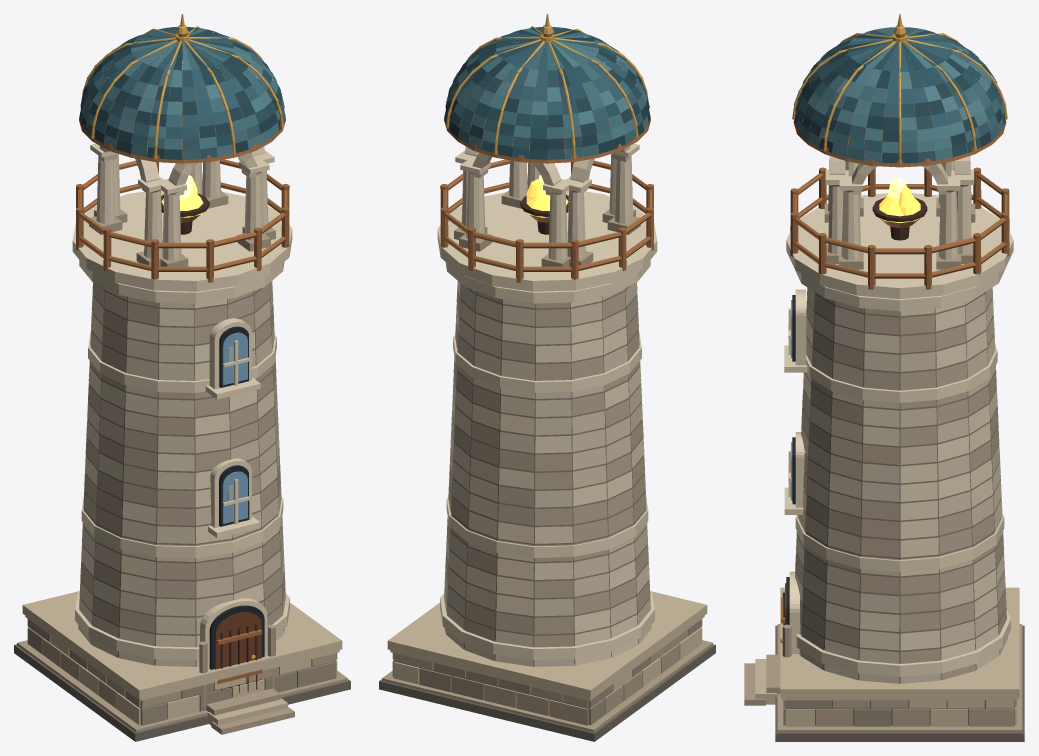
The model's file is watch-nivel-9.glb.
3 renders of one model, left to right at view 1: azimuth 30°, elevation 25°; view 2: azimuth 150°, elevation 25°; view 3: azimuth 270°, elevation 25°, orthographic. The views are drawn at different scales.
Parts seen in each view (by area): view 1: Vigia 09 #e6d7ba, Vigia 09 #d2c4ad, Vigia 09 #b8a993, Vigia 09 #e1d2b8, Vigia 09 #cebea0, Vigia 09 #897e6f, Vigia 09 #b4a38a, Vigia 09 #a76e42, Vigia 09 #3b6472, Vigia 09 #294952, Vigia 09 #54818b, Vigia 09 #46717c (+8 smaller); view 2: Vigia 09 #e6d7ba, Vigia 09 #b8a993, Vigia 09 #e1d2b8, Vigia 09 #d2c4ad, Vigia 09 #cebea0, Vigia 09 #897e6f, Vigia 09 #b4a38a, Vigia 09 #a76e42, Vigia 09 #3b6472, Vigia 09 #46717c, Vigia 09 #305762, Vigia 09 #54818b (+5 smaller); view 3: Vigia 09 #e6d7ba, Vigia 09 #b8a993, Vigia 09 #d2c4ad, Vigia 09 #e1d2b8, Vigia 09 #897e6f, Vigia 09 #cebea0, Vigia 09 #a76e42, Vigia 09 #b4a38a, Vigia 09 #54818b, Vigia 09 #3b6472, Vigia 09 #305762, Vigia 09 #294952 (+7 smaller).
Part boxes in pixels (<box>): Vigia 09 #e6d7ba: <box>72,143,292,668</box>; Vigia 09 #d2c4ad: <box>79,146,285,666</box>; Vigia 09 #b8a993: <box>80,282,285,633</box>; Vigia 09 #e1d2b8: <box>78,148,285,666</box>; Vigia 09 #cebea0: <box>22,591,342,725</box>; Vigia 09 #897e6f: <box>80,283,284,666</box>; Vigia 09 #b4a38a: <box>17,191,347,734</box>; Vigia 09 #a76e42: <box>76,71,289,683</box>; Vigia 09 #3b6472: <box>82,27,281,158</box>; Vigia 09 #294952: <box>79,32,280,158</box>; Vigia 09 #54818b: <box>82,28,285,156</box>; Vigia 09 #46717c: <box>80,30,284,159</box>; Vigia 09 #e6d7ba: <box>437,143,657,659</box>; Vigia 09 #b8a993: <box>444,282,650,647</box>; Vigia 09 #e1d2b8: <box>444,146,651,665</box>; Vigia 09 #d2c4ad: <box>444,148,650,666</box>; Vigia 09 #cebea0: <box>387,591,707,700</box>; Vigia 09 #897e6f: <box>445,283,649,666</box>; Vigia 09 #b4a38a: <box>382,191,712,732</box>; Vigia 09 #a76e42: <box>440,71,653,282</box>; Vigia 09 #3b6472: <box>451,27,648,159</box>; Vigia 09 #46717c: <box>447,27,645,159</box>; Vigia 09 #305762: <box>444,27,641,159</box>; Vigia 09 #54818b: <box>445,28,648,149</box>; Vigia 09 #e6d7ba: <box>784,159,1013,676</box>; Vigia 09 #b8a993: <box>795,287,1006,680</box>; Vigia 09 #d2c4ad: <box>795,156,1007,683</box>; Vigia 09 #e1d2b8: <box>795,156,1004,680</box>; Vigia 09 #897e6f: <box>796,291,1005,683</box>; Vigia 09 #cebea0: <box>755,587,1019,726</box>; Vigia 09 #a76e42: <box>781,72,1009,623</box>; Vigia 09 #b4a38a: <box>744,198,1022,732</box>; Vigia 09 #54818b: <box>796,27,1004,162</box>; Vigia 09 #3b6472: <box>797,29,1005,162</box>; Vigia 09 #305762: <box>803,30,998,163</box>; Vigia 09 #294952: <box>795,32,1002,152</box>.
Size of the model in its own units: 4.16 by 12.12 by 4.56.
